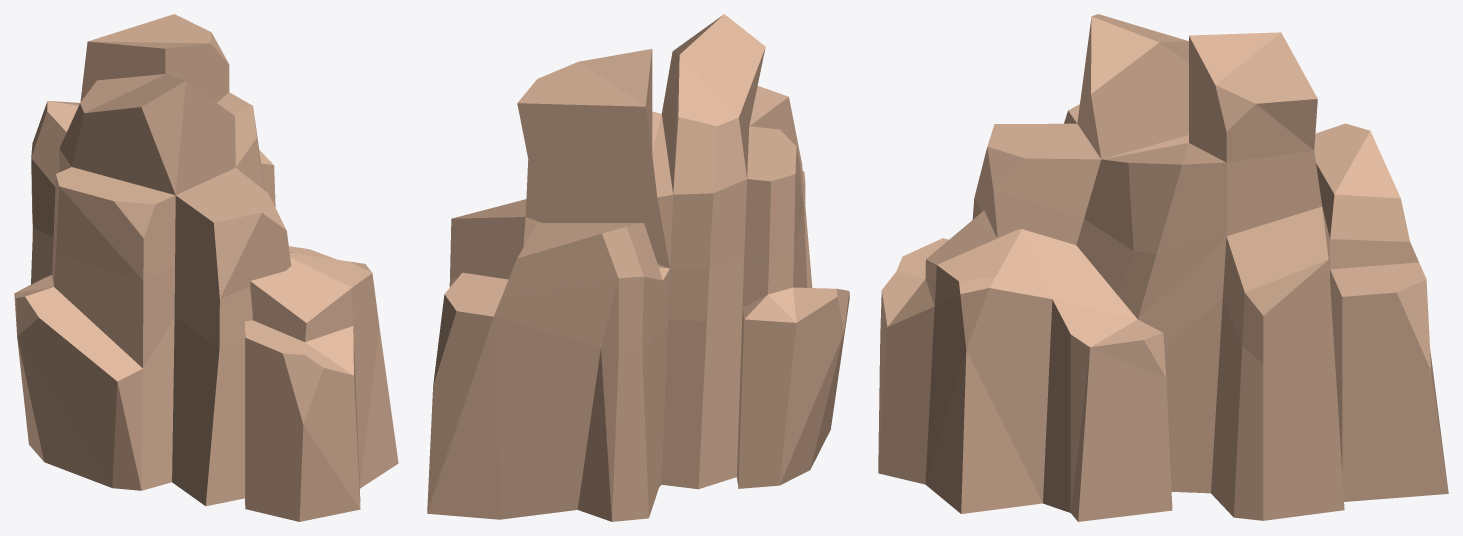
File: Cliff_Rock_2.fbx
The picture shows the model from 3 angles, left to right: view 1: azimuth 30°, elevation 25°; view 2: azimuth 150°, elevation 25°; view 3: azimuth 270°, elevation 25°; orthographic projection. The views are drawn at different scales.
Visible parts, largest first — view 1: Cliff_Rock_2; view 2: Cliff_Rock_2; view 3: Cliff_Rock_2.
Part boxes in pixels (bbox=[...]): Cliff_Rock_2: bbox=[14, 14, 398, 521]; Cliff_Rock_2: bbox=[427, 14, 849, 521]; Cliff_Rock_2: bbox=[878, 14, 1448, 521].
Bounding box in the file's own units: 190 × 221 × 275.
